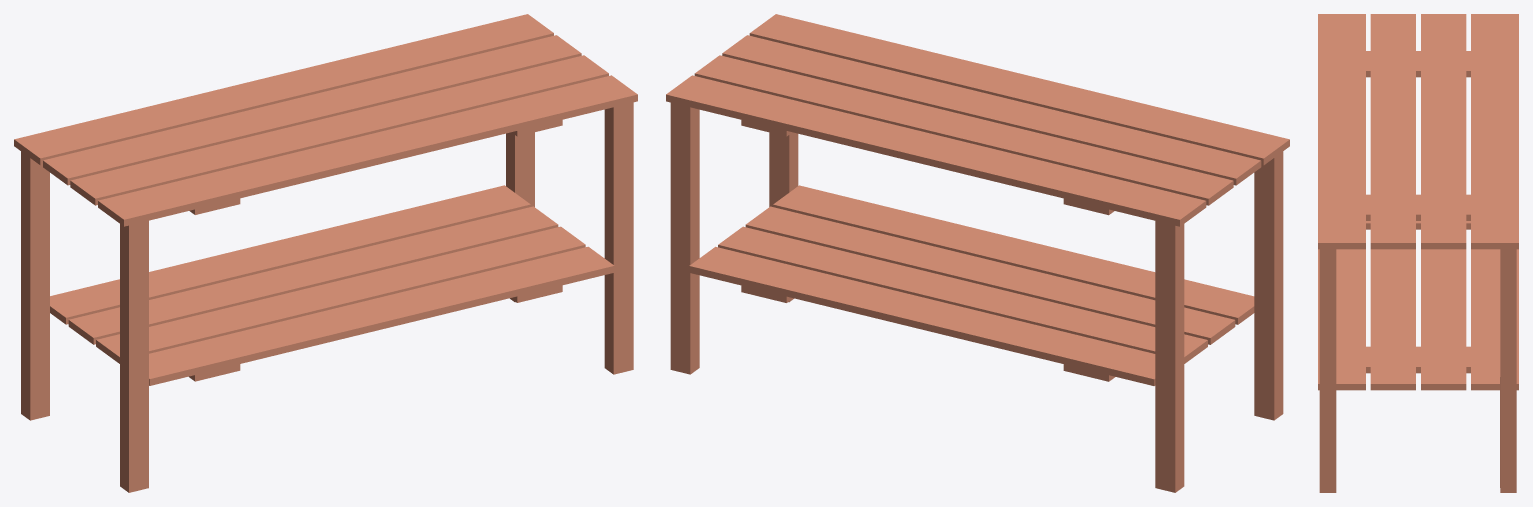
File: Laundry_shelve_stand1_231109.glb
3 renders of one model, left to right at view 1: azimuth 30°, elevation 25°; view 2: azimuth 150°, elevation 25°; view 3: azimuth 270°, elevation 25°, orthographic. The views are drawn at different scales.
Parts seen in each view (by area): view 1: Laundry_shelve_stand1; view 2: Laundry_shelve_stand1; view 3: Laundry_shelve_stand1.
Boxes of the visible parts, x1=… form: Laundry_shelve_stand1: x1=14, y1=14, x2=637, y2=492; Laundry_shelve_stand1: x1=666, y1=14, x2=1289, y2=492; Laundry_shelve_stand1: x1=1318, y1=14, x2=1518, y2=492.
Size of the model in its own units: 1.71 by 0.8744 by 0.6332.
Materials: 1 (1 with a texture image).
